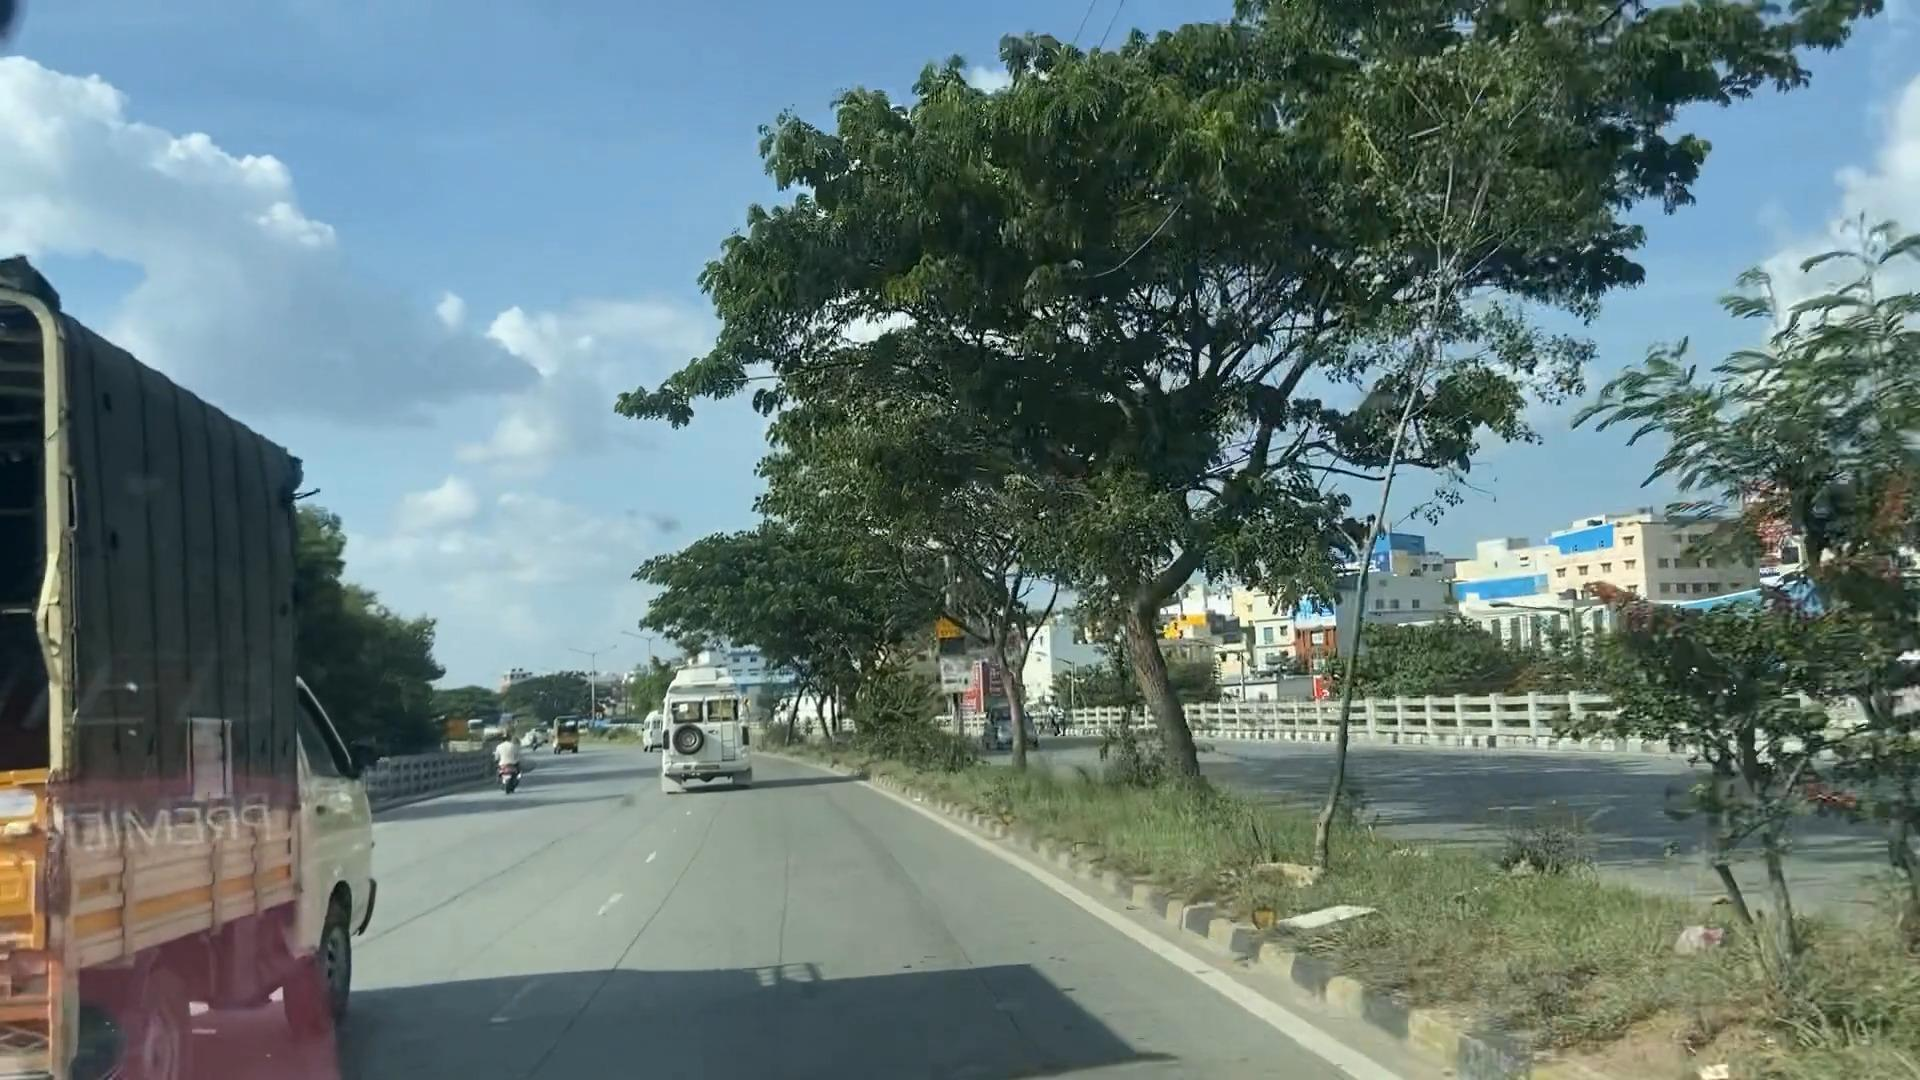HMV: (12, 332, 366, 1080), (664, 666, 747, 784)
